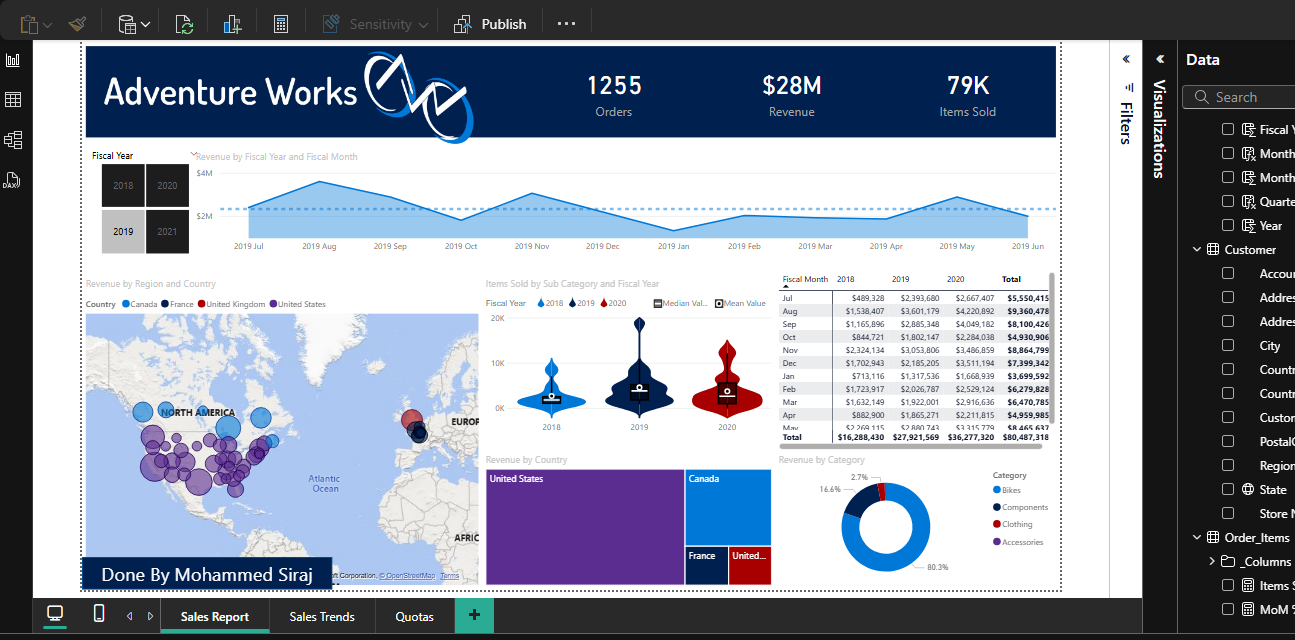

What the dashboard file says about the page in this screenshot:
{"tool":"powerbi","page":{"name":"Sales Report","canvas":[1280,720],"ordinal":0},"visuals":[{"type":"map","fields":{"Size":["Order_Items.Revenue"],"Series":["Customer.Country"],"Category":["Customer.Region"]},"box":[0,310.7,523.6,408.4],"z":0},{"type":"treemap","fields":{"Group":["Customer.Country"],"Values":["Order_Items.Revenue"]},"box":[523.6,541.1,384,178],"z":1000},{"type":"areaChart","fields":{"Y":["Order_Items.Revenue"],"Category":["Calendar.Fiscal Date.Fiscal Year","Calendar.Fiscal Date.Fiscal Month","Calendar.Fiscal Date.Day"]},"box":[143.6,143.6,1136.4,143.6],"z":2000},{"type":"pivotTable","fields":{"Values":["Order_Items.Revenue"],"Rows":["Calendar.Fiscal Month"],"Columns":["Calendar.Fiscal Year"]},"box":[907.6,297.9,372.4,243.2],"z":3000},{"type":"image","box":[0,0,1280,143.1],"z":4000},{"type":"card","fields":{"Values":["Order_Items.Orders"]},"box":[594.6,16.3,203.6,102.4],"z":5000},{"type":"card","fields":{"Values":["Order_Items.Revenue"]},"box":[827.3,16.3,203.6,102.4],"z":6000},{"type":"card","fields":{"Values":["Order_Items.Items Sold"]},"box":[1057.7,16.3,203.6,102.4],"z":7000},{"type":"violinPlot4D46EB9EB3A141D9BA2289793175D971","fields":{"sampling":["Products.Sub Category"],"measure":["Order_Items.Items Sold"],"category":["Calendar.Fiscal Year"]},"box":[523.6,310.7,384,214.1],"z":8000},{"type":"donutChart","fields":{"Y":["Order_Items.Revenue"],"Category":["Products.Category"]},"box":[907.6,541.1,372.4,178],"z":9000},{"type":"slicer","fields":{"Values":["Calendar.Fiscal Year"]},"box":[0,137.6,163.8,148.6],"z":10000},{"type":"shape","box":[0,677.4,327.7,42.6],"z":11000}]}

Visuals, with their boxes on the page's 1280x720 design canvas (x1, y1, x2, y2). These are canvas units, not pixel positions in the 1295x640 screenshot, which may show the page scaled, cropped or inside an application window:
map - Order_Items.Revenue x Customer.Country: bbox(0, 311, 524, 719)
treemap - Customer.Country x Order_Items.Revenue: bbox(524, 541, 908, 719)
areaChart - Order_Items.Revenue x Calendar.Fiscal Date.Fiscal Year: bbox(144, 144, 1280, 287)
pivotTable - Order_Items.Revenue x Calendar.Fiscal Month: bbox(908, 298, 1280, 541)
image: bbox(0, 0, 1280, 143)
card - Order_Items.Orders: bbox(595, 16, 798, 119)
card - Order_Items.Revenue: bbox(827, 16, 1031, 119)
card - Order_Items.Items Sold: bbox(1058, 16, 1261, 119)
violinPlot4D46EB9EB3A141D9BA2289793175D971 - Products.Sub Category x Order_Items.Items Sold: bbox(524, 311, 908, 525)
donutChart - Order_Items.Revenue x Products.Category: bbox(908, 541, 1280, 719)
slicer - Calendar.Fiscal Year: bbox(0, 138, 164, 286)
shape: bbox(0, 677, 328, 720)
